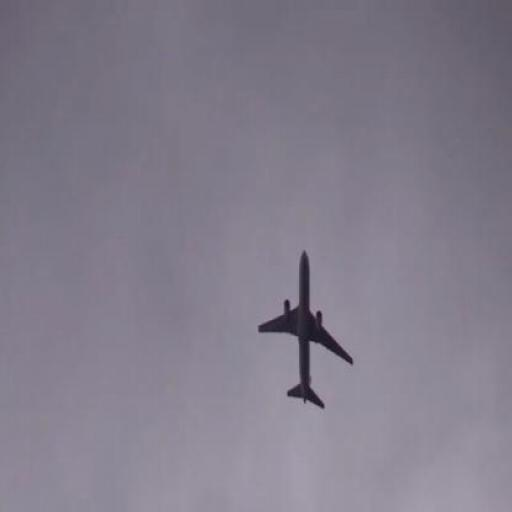aircraft: (257, 248, 356, 406)
